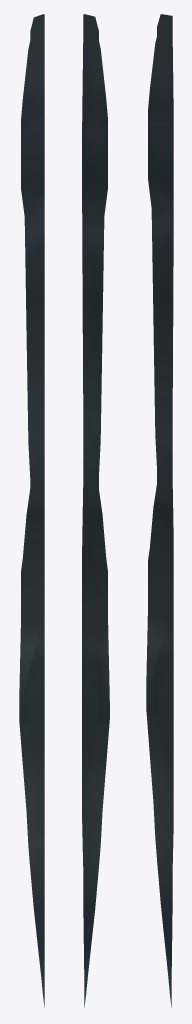
File: z20-167770-405237-h1-yup-uvflip-v3-world.glb
3 renders of one model, left to right at view 1: azimuth 30°, elevation 25°; view 2: azimuth 150°, elevation 25°; view 3: azimuth 330°, elevation 25°, orthographic.
Size of the model in its own units: 0.56 by 20.8 by 0.08.
1 material, 1 textured.
